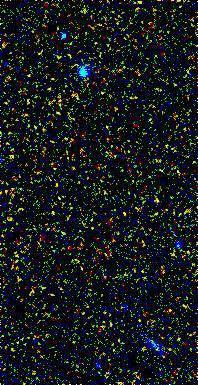star: (0, 32, 17, 62)
